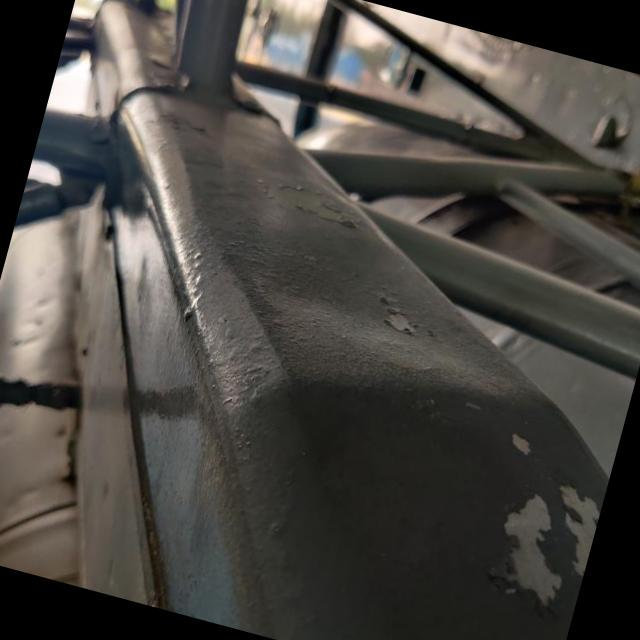Paint-off: (505, 496, 562, 607), (562, 487, 599, 575)
